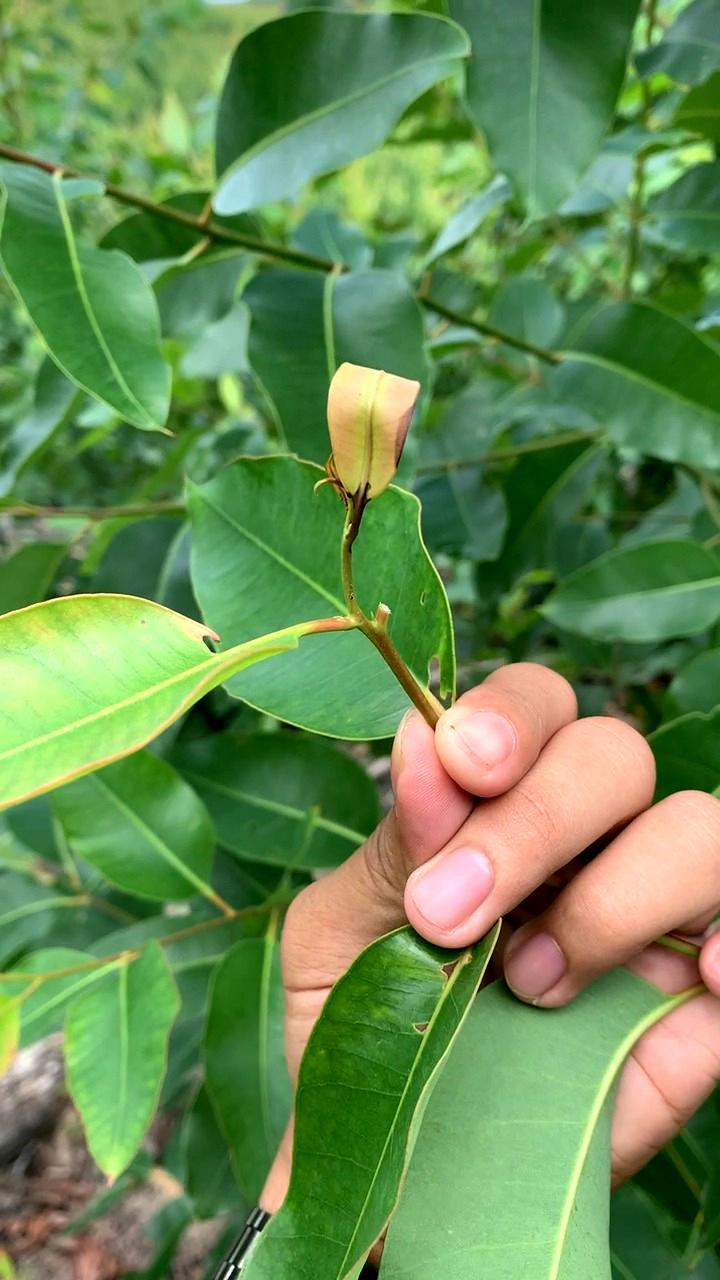Helopeltis-Withered Sprout: (323, 350, 409, 518)
